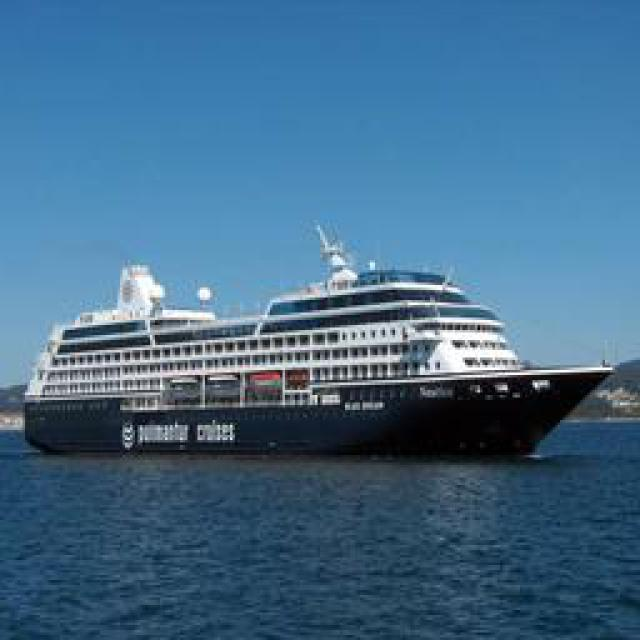Ship: (31, 234, 624, 464)
